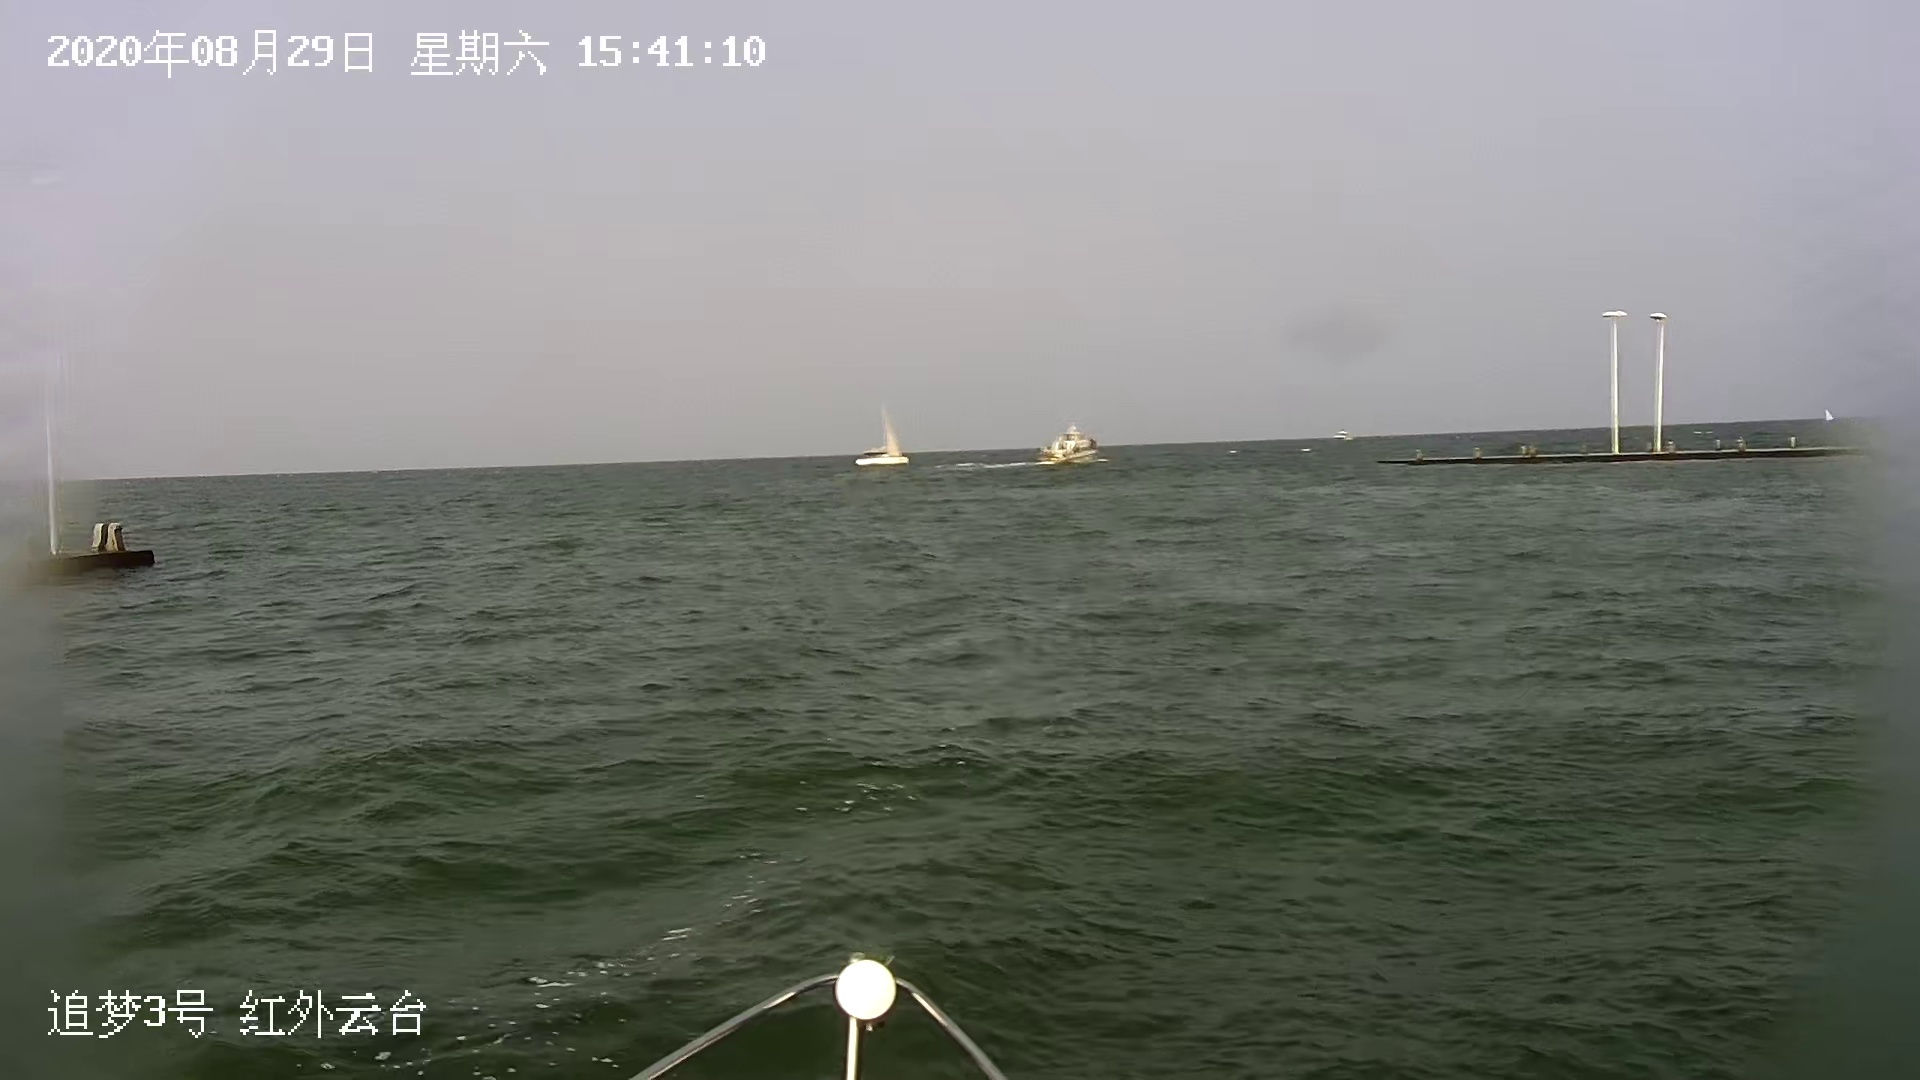barrier: (855, 405, 913, 469), (1035, 419, 1106, 467), (1332, 430, 1356, 443), (1824, 406, 1836, 426)
coast: (1375, 307, 1900, 468), (38, 380, 164, 585)
